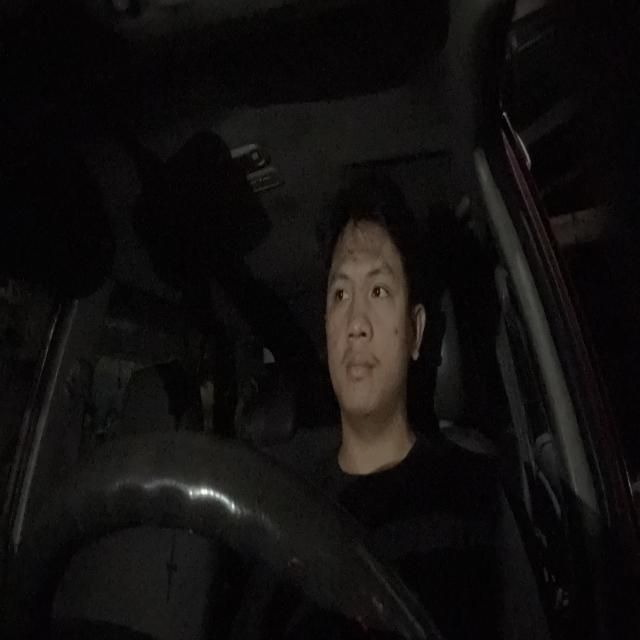open: (363, 260, 396, 312), (329, 269, 352, 315)
